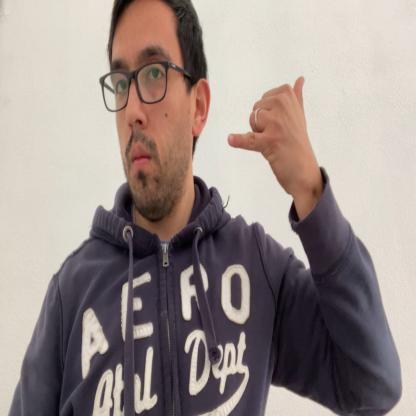Y: (228, 76, 312, 180)
